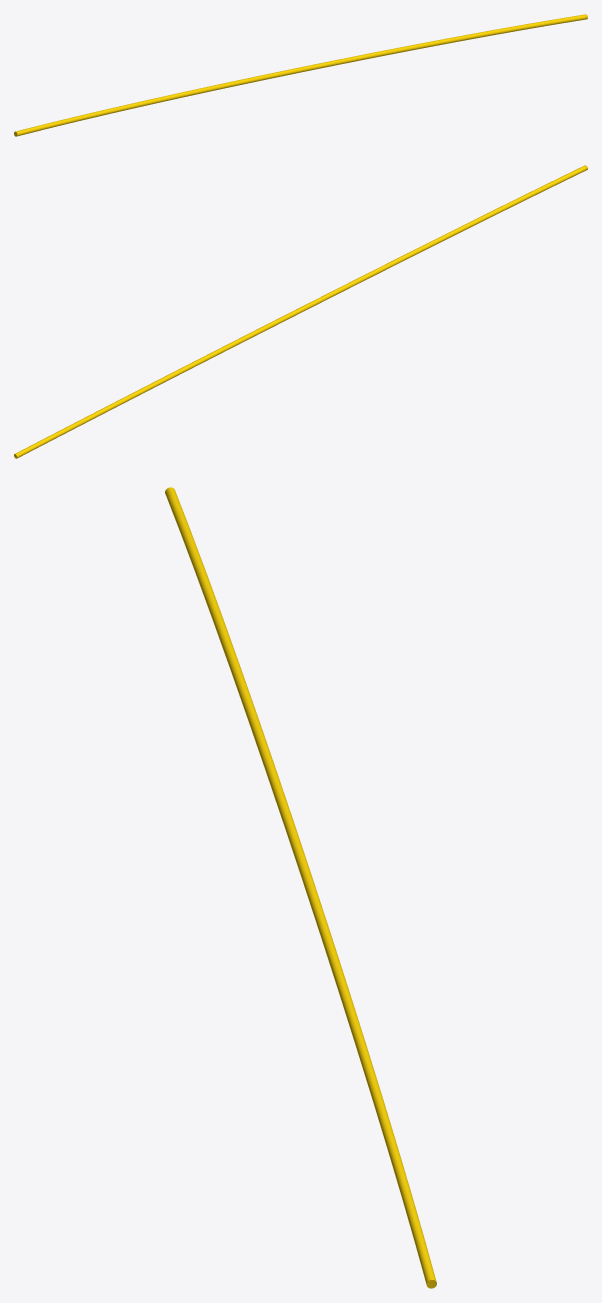
Rendered from Event_420107950_track_22.fbx.
The picture shows the model from 3 angles, top to bottom: view 1: azimuth 30°, elevation 25°; view 2: azimuth 210°, elevation 25°; view 3: azimuth 270°, elevation 25°; orthographic projection. The views are drawn at different scales.
Parts seen in each view (by area): view 1: Model; view 2: Model; view 3: Model.
Part boxes in pixels (x1,y1,x2,y2): Model: (14,14,587,136); Model: (14,165,587,458); Model: (165,487,436,1288).
Bounding box in the file's own units: 5.62 × 0.7627 × 1.04.
